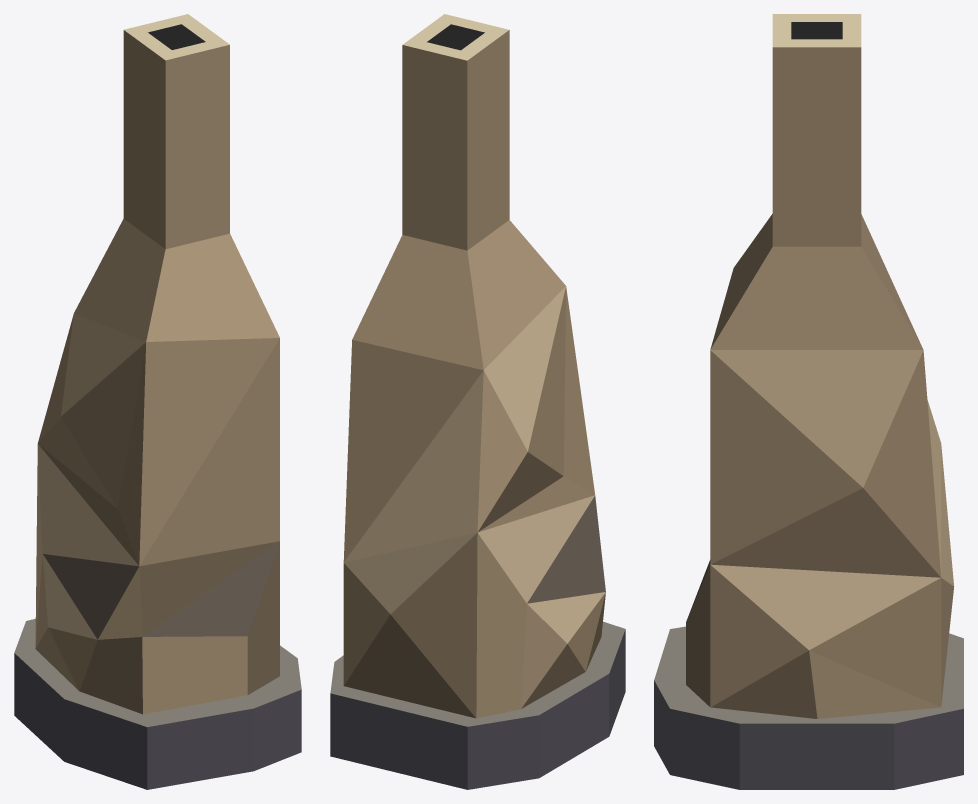
File: TB_D_Bd_Chimney.FBX
3 views of the same model, side by side, from view 1: azimuth 30°, elevation 25°; view 2: azimuth 150°, elevation 25°; view 3: azimuth 270°, elevation 25° (orthographic). The views are drawn at different scales.
Visible parts, largest first — view 1: TB_D_Bd_Chimney; view 2: TB_D_Bd_Chimney; view 3: TB_D_Bd_Chimney.
Boxes of the visible parts, x1,y1,x2,y2 form: TB_D_Bd_Chimney: (14, 14, 301, 789); TB_D_Bd_Chimney: (330, 14, 625, 789); TB_D_Bd_Chimney: (654, 14, 963, 789).
Bounding box in the file's own units: 2.01 × 6 × 2.35.
